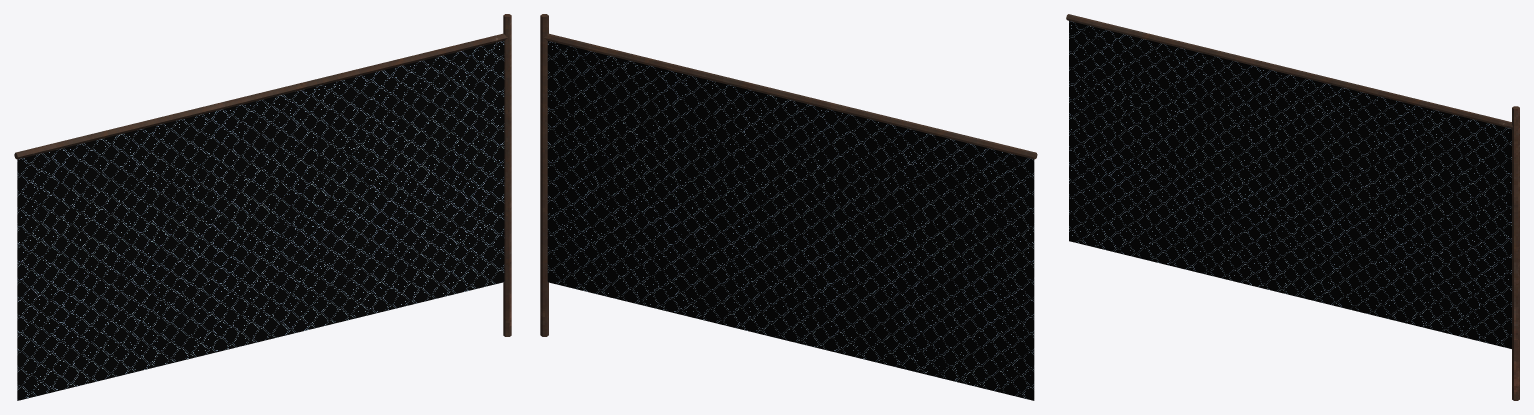
Rendered from metalfence_one_side_topbar.glb.
3 views of the same model, side by side, from view 1: azimuth 30°, elevation 25°; view 2: azimuth 150°, elevation 25°; view 3: azimuth 330°, elevation 25° (orthographic). The views are drawn at different scales.
Visible parts, largest first — view 1: metalfence_one_side_topbar; view 2: metalfence_one_side_topbar; view 3: metalfence_one_side_topbar.
Boxes of the visible parts, left/top/right/bottom form: metalfence_one_side_topbar: left=14, top=14, right=511, bottom=400; metalfence_one_side_topbar: left=540, top=14, right=1037, bottom=400; metalfence_one_side_topbar: left=1066, top=14, right=1519, bottom=400.
Size of the model in its own units: 2.7 by 1.67 by 0.04.
2 materials, 2 textured.
